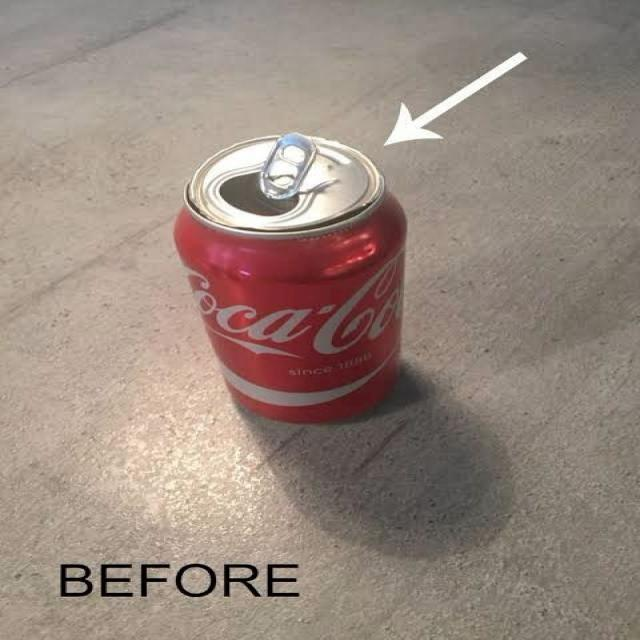can: (180, 140, 403, 420)
